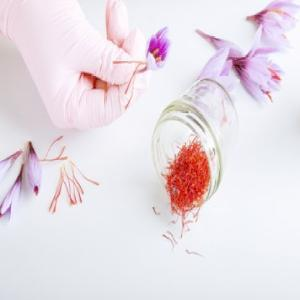Saffron: (227, 50, 296, 103), (240, 4, 300, 38), (133, 33, 172, 66), (26, 142, 42, 197)
